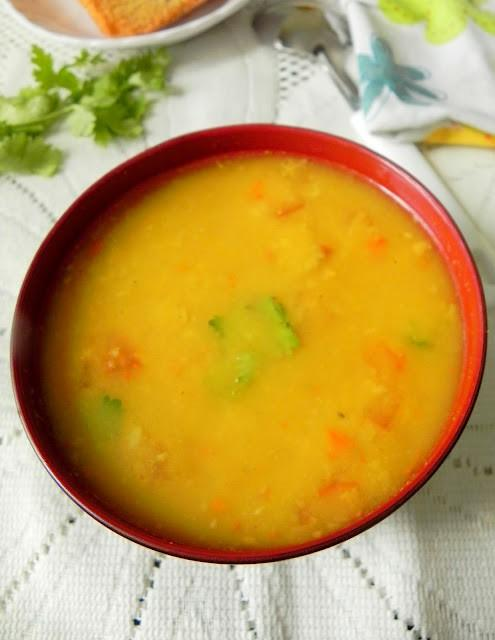Dal: (40, 154, 463, 543)
